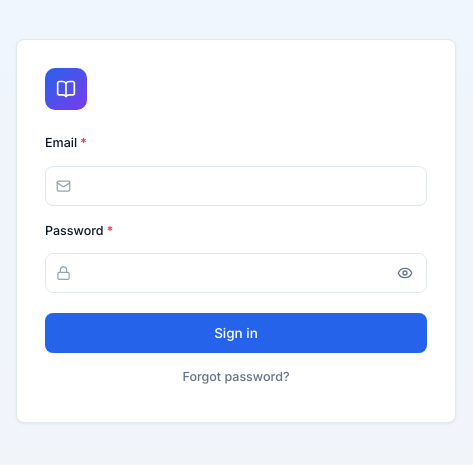
Scenario: SignIn OTP flow › shows login failures inline without a duplicate toast
Step 1. Click the button "Sign in" → (236, 333), box [45,313,427,353]
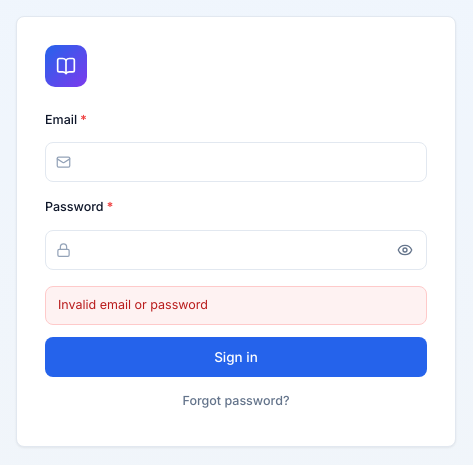
Expected: the text "Invalid email or password" is shown, [45,286,427,325]
